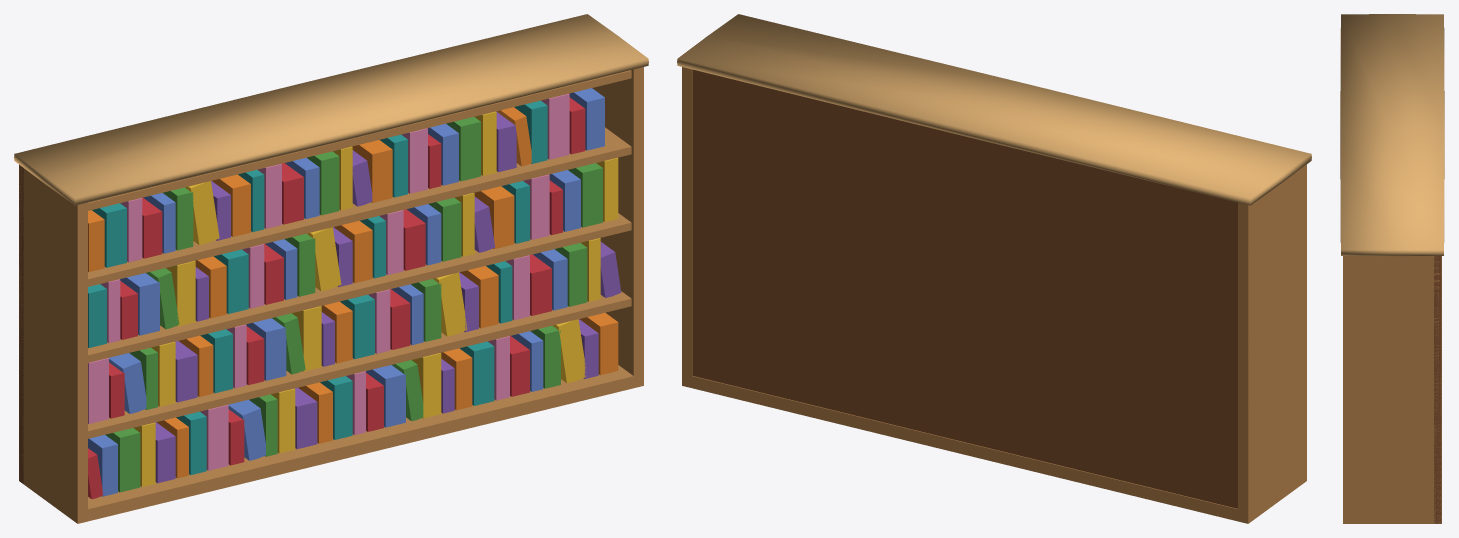
Rendered from bookshelf.glb.
3 renders of one model, left to right at view 1: azimuth 30°, elevation 25°; view 2: azimuth 150°, elevation 25°; view 3: azimuth 270°, elevation 25°, orthographic. The views are drawn at different scales.
Visible parts, largest first — view 1: root; view 2: root; view 3: root.
Boxes of the visible parts, bbox=[...] form: root: bbox=[14, 14, 648, 523]; root: bbox=[677, 14, 1311, 523]; root: bbox=[1340, 14, 1444, 523].
Bounding box in the file's own units: 3.96 × 2.16 × 0.74.
